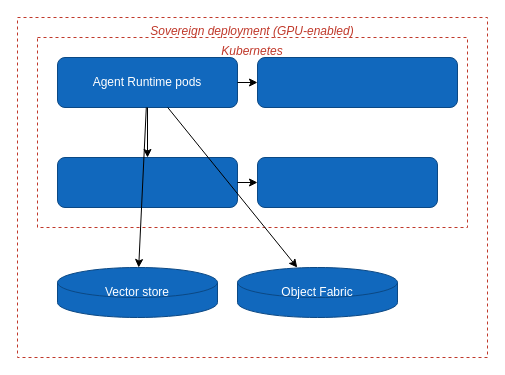
Some shapes in this 505 by 375 pixel diagram are drawn without their labels. Each missing label, with the centre of its shape:
"Evals/Guardrail pods" belongs at point 147,182.
"GLM 5.2 inference (GPU)" belongs at point 357,82.
"Self-Heal controller" belongs at point 347,182.
